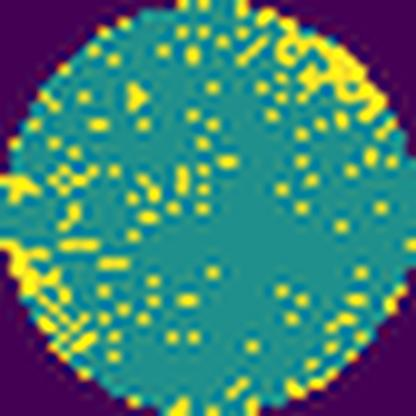Edge-Loc: (275, 17, 388, 123)
